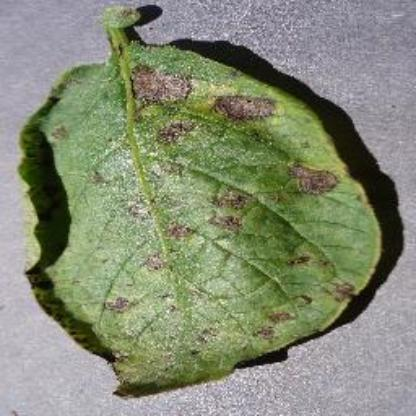Early-Blight: (17, 0, 395, 398)
